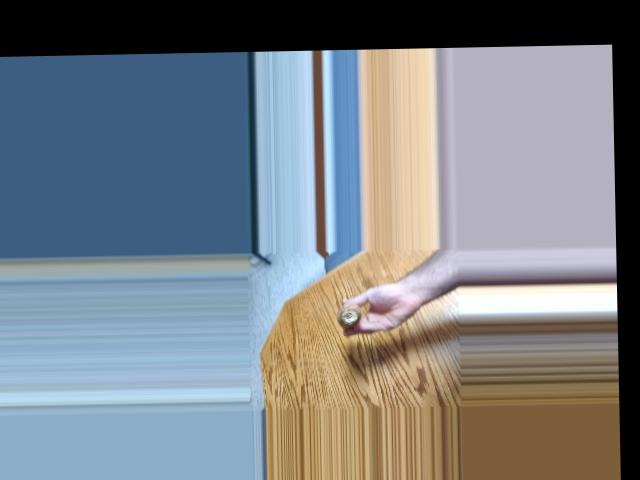sweet_potato: (330, 300, 362, 325)
